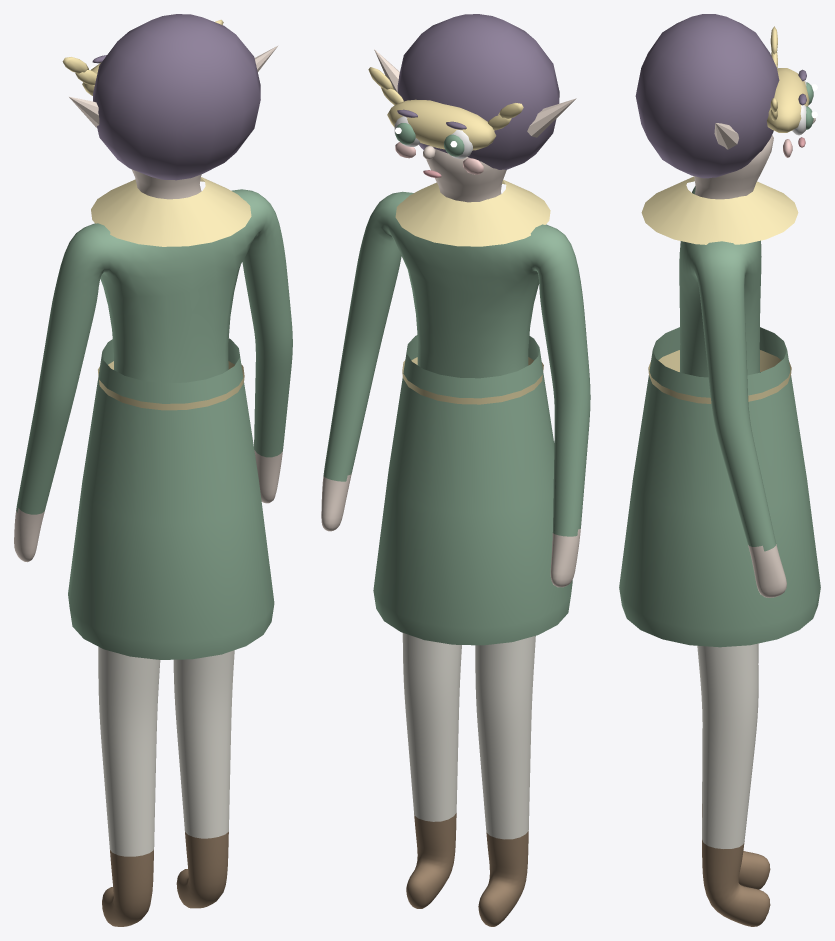
Rendered from servant_footman.gltf.
3 views of the same model, side by side, from view 1: azimuth 30°, elevation 25°; view 2: azimuth 150°, elevation 25°; view 3: azimuth 270°, elevation 25° (orthographic). The views are drawn at different scales.
Parts seen in each view (by area): view 1: servant_footman; view 2: servant_footman; view 3: servant_footman.
Part boxes in pixels (x1,y1,x2,y2): servant_footman: [14, 14, 292, 926]; servant_footman: [321, 14, 590, 926]; servant_footman: [619, 14, 820, 926].
Bounding box in the file's own units: 0.5299 × 1.76 × 0.364.
